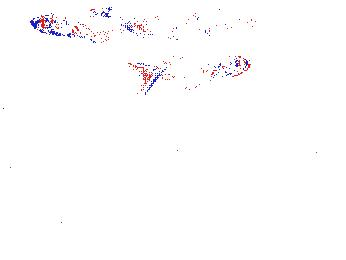glassfish: (83, 7, 201, 55)
redtail glassfish: (130, 51, 251, 94), (29, 9, 153, 42), (189, 8, 254, 27), (160, 18, 214, 38)
